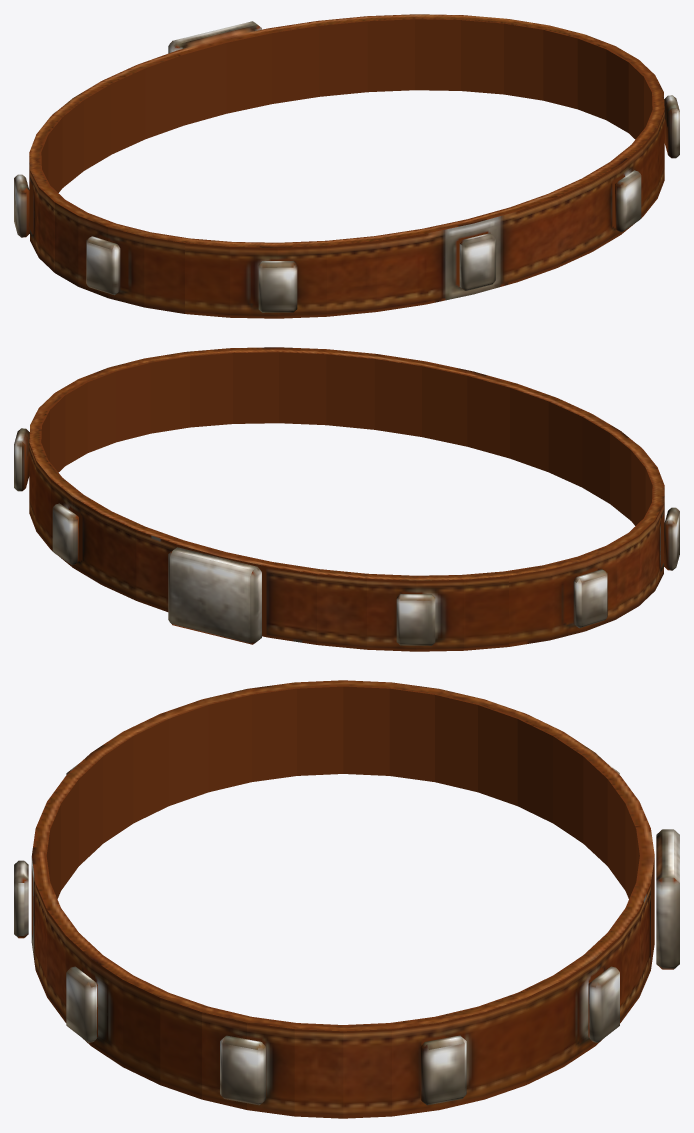
Rendered from item_mm9_10152.glb.
3 views of the same model, one above another, from view 1: azimuth 30°, elevation 25°; view 2: azimuth 150°, elevation 25°; view 3: azimuth 270°, elevation 25° (orthographic). The views are drawn at different scales.
Visible parts, largest first — view 1: d10152; view 2: d10152; view 3: d10152.
Boxes of the visible parts, x1,y1,x2,y2 form: d10152: (14,14,679,318); d10152: (14,347,679,651); d10152: (14,680,679,1118).
Size of the model in its own units: 61.2 by 7.39 by 48.64.
Materials: 1 (1 with a texture image).
